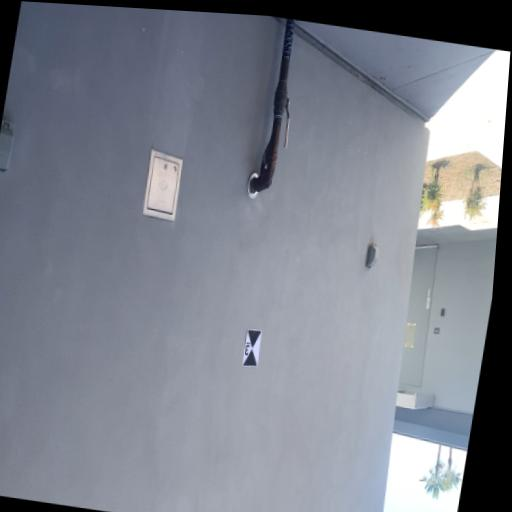target3: (242, 329, 262, 367)
